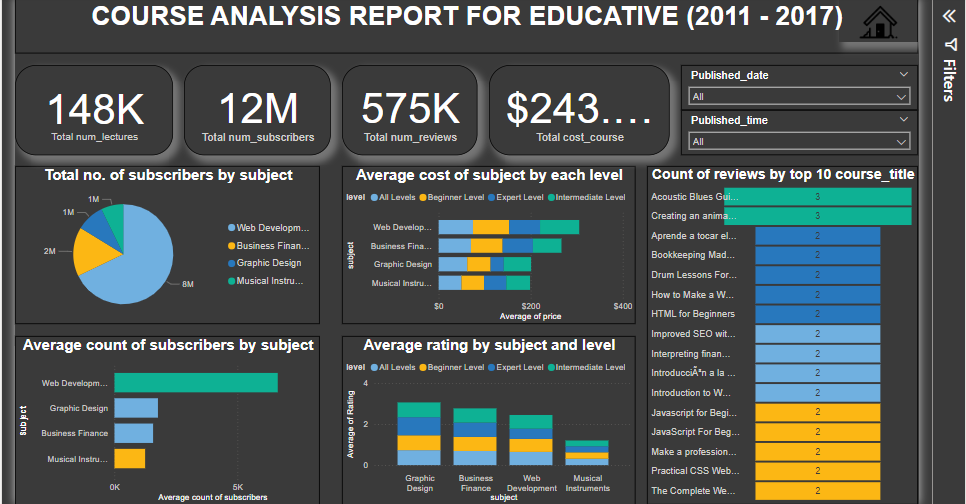

The dashboard page shown, as its layout file describes it:
{"tool":"powerbi","page":{"name":"Dashboard 1","canvas":[1280,720],"ordinal":0},"visuals":[{"type":"pieChart","title":"Total no. of subscribers by subject","fields":{"Category":["Data_Sheet_Educative_Courses_Export.subject"],"Y":["Sum(Data_Sheet_Educative_Courses_Export.num_subscribers)"]},"box":[0,240,432,224],"z":0},{"type":"textbox","box":[0,0,1280,80],"z":1000},{"type":"barChart","title":"Average count of subscribers by subject","fields":{"Category":["Data_Sheet_Educative_Courses_Export.subject"],"Y":["Avg(Data_Sheet_Educative_Courses_Export.num_subscribers)"]},"box":[0,480,432,240],"z":2000},{"type":"barChart","title":"Average cost of subject by each level","fields":{"Category":["Data_Sheet_Educative_Courses_Export.subject"],"Y":["Avg(Data_Sheet_Educative_Courses_Export.price)"],"Series":["Data_Sheet_Educative_Courses_Export.level"]},"box":[464,240,416,224],"z":3000},{"type":"columnChart","title":"Average rating by subject and level","fields":{"Category":["Data_Sheet_Educative_Courses_Export.subject"],"Y":["Avg(Data_Sheet_Educative_Courses_Export.Rating)"],"Series":["Data_Sheet_Educative_Courses_Export.level"]},"box":[464,480,416,240],"z":4000},{"type":"card","fields":{"Values":["Sum(Data_Sheet_Educative_Courses_Export.num_lectures)"]},"box":[0,96,224,128],"z":4002},{"type":"card","fields":{"Values":["Sum(Data_Sheet_Educative_Courses_Export.num_subscribers)"]},"box":[240,96,208,128],"z":4003},{"type":"card","fields":{"Values":["Sum(Data_Sheet_Educative_Courses_Export.num_reviews)"]},"box":[464,96,192,128],"z":4004},{"type":"card","fields":{"Values":["Sum(Data_Sheet_Educative_Courses_Export.price)"]},"box":[672,96,256,128],"z":4005},{"type":"funnel","title":"Count of reviews by top 10 course_title","fields":{"Category":["Data_Sheet_Educative_Courses_Export.course_title"],"Y":["CountNonNull(Data_Sheet_Educative_Courses_Export.num_reviews)"]},"box":[896,240,384,480],"z":4006},{"type":"slicer","fields":{"Values":["Data_Sheet_Educative_Courses_Export.Published_date"]},"box":[944,96,336,64],"z":4007},{"type":"slicer","fields":{"Values":["Data_Sheet_Educative_Courses_Export.Published_time"]},"box":[944,160,336,64],"z":4008},{"type":"image","box":[1168,0,112,64],"z":4009}]}

Visuals, with their boxes on the page's 1280x720 design canvas (x1, y1, x2, y2). These are canvas units, not pixel positions in the 966x504 screenshot, which may show the page scaled, cropped or inside an application window:
"Total no. of subscribers by subject" pieChart: 0:240:432:464
textbox: 0:0:1280:80
"Average count of subscribers by subject" barChart: 0:480:432:720
"Average cost of subject by each level" barChart: 464:240:880:464
"Average rating by subject and level" columnChart: 464:480:880:720
card - Sum(Data_Sheet_Educative_Courses_Export.num_lectures): 0:96:224:224
card - Sum(Data_Sheet_Educative_Courses_Export.num_subscribers): 240:96:448:224
card - Sum(Data_Sheet_Educative_Courses_Export.num_reviews): 464:96:656:224
card - Sum(Data_Sheet_Educative_Courses_Export.price): 672:96:928:224
"Count of reviews by top 10 course_title" funnel: 896:240:1280:720
slicer - Data_Sheet_Educative_Courses_Export.Published_date: 944:96:1280:160
slicer - Data_Sheet_Educative_Courses_Export.Published_time: 944:160:1280:224
image: 1168:0:1280:64
